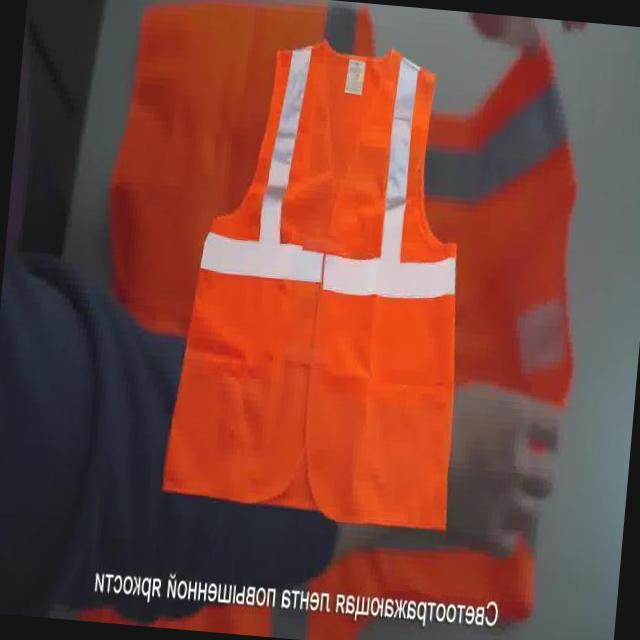vest: (159, 28, 490, 538)
